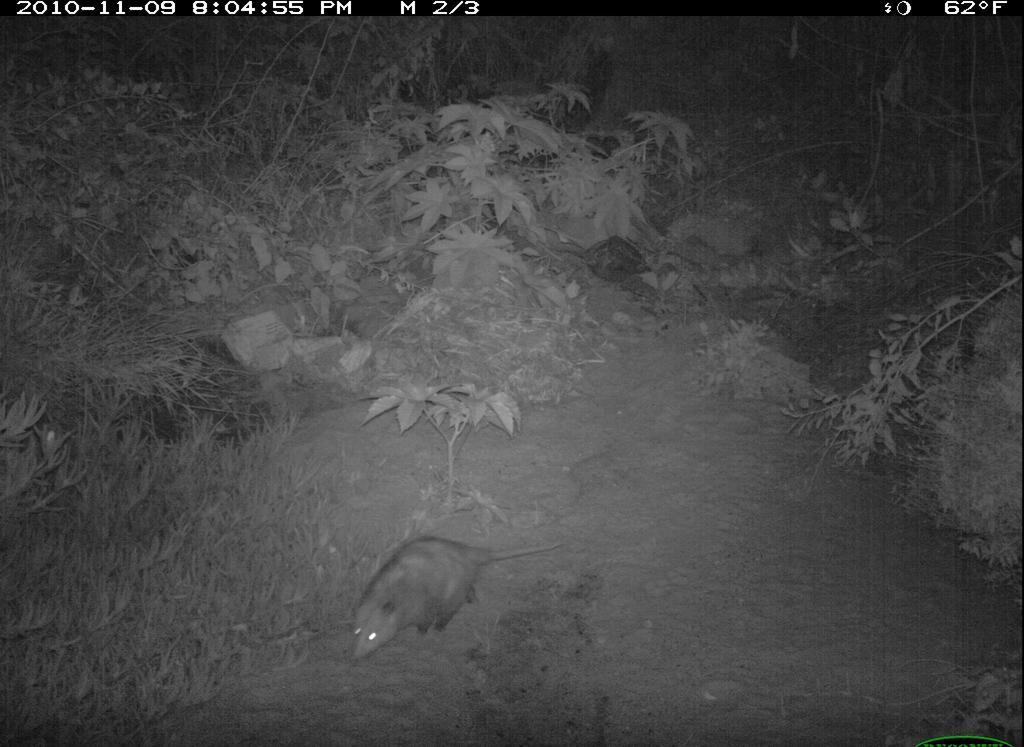opossum: (324, 507, 562, 673)
